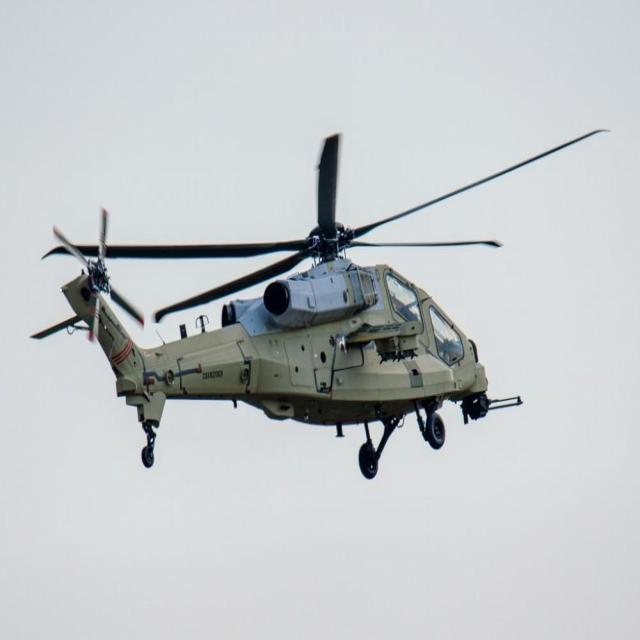MIL_HELO: (22, 98, 614, 510)
